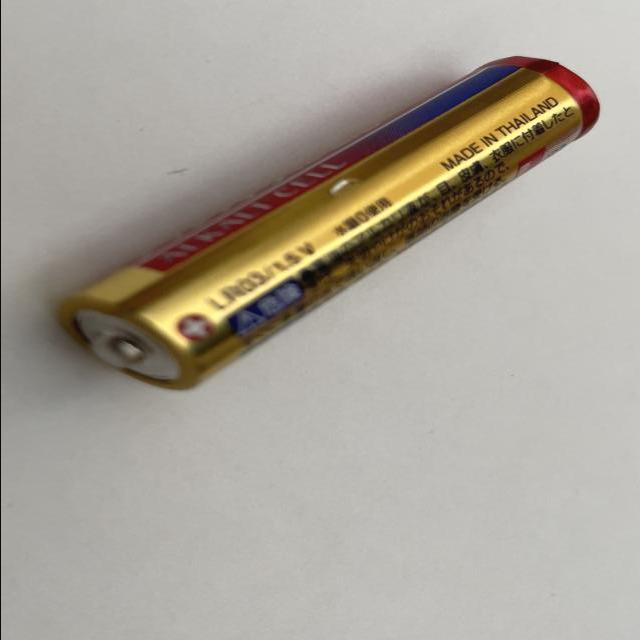AAA: (58, 55, 600, 392)
